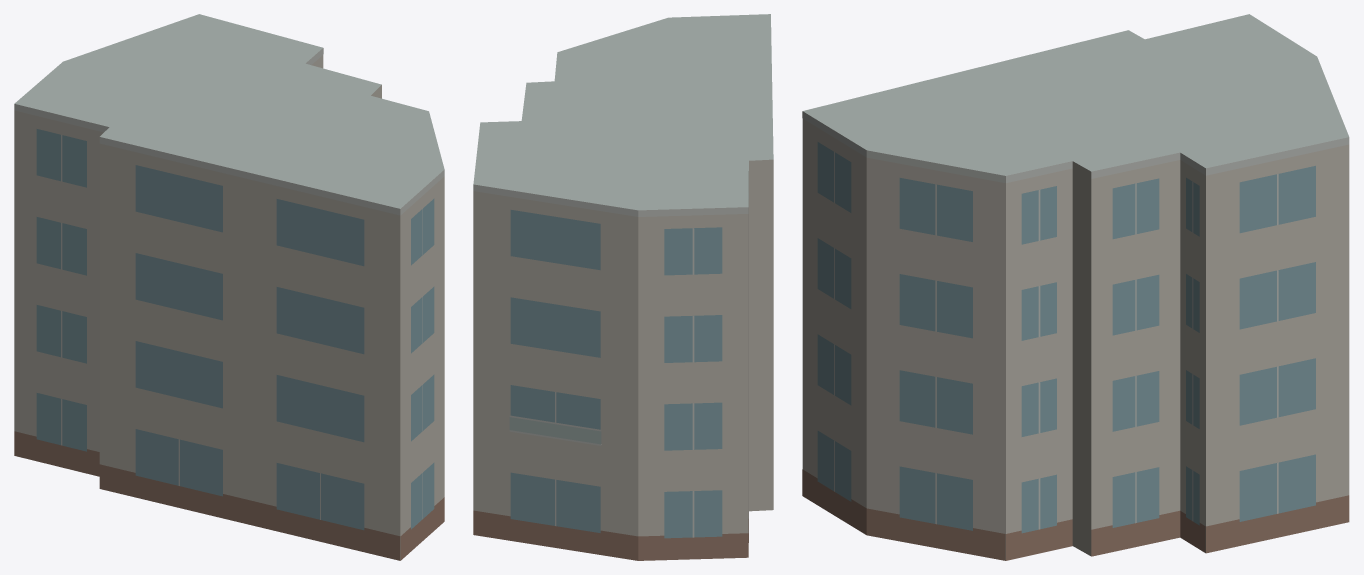
Rendered from survey-upis-32517311.glb.
3 renders of one model, left to right at view 1: azimuth 30°, elevation 25°; view 2: azimuth 150°, elevation 25°; view 3: azimuth 270°, elevation 25°, orthographic. The views are drawn at different scales.
Visible parts, largest first — view 1: survey-upis-32517311.tmp; view 2: survey-upis-32517311.tmp; view 3: survey-upis-32517311.tmp.
Part boxes in pixels (<box>): survey-upis-32517311.tmp: <box>14,14,444,560</box>; survey-upis-32517311.tmp: <box>473,14,773,560</box>; survey-upis-32517311.tmp: <box>802,14,1349,560</box>.
Bounding box in the file's own units: 11.56 × 12.8 × 16.49.
